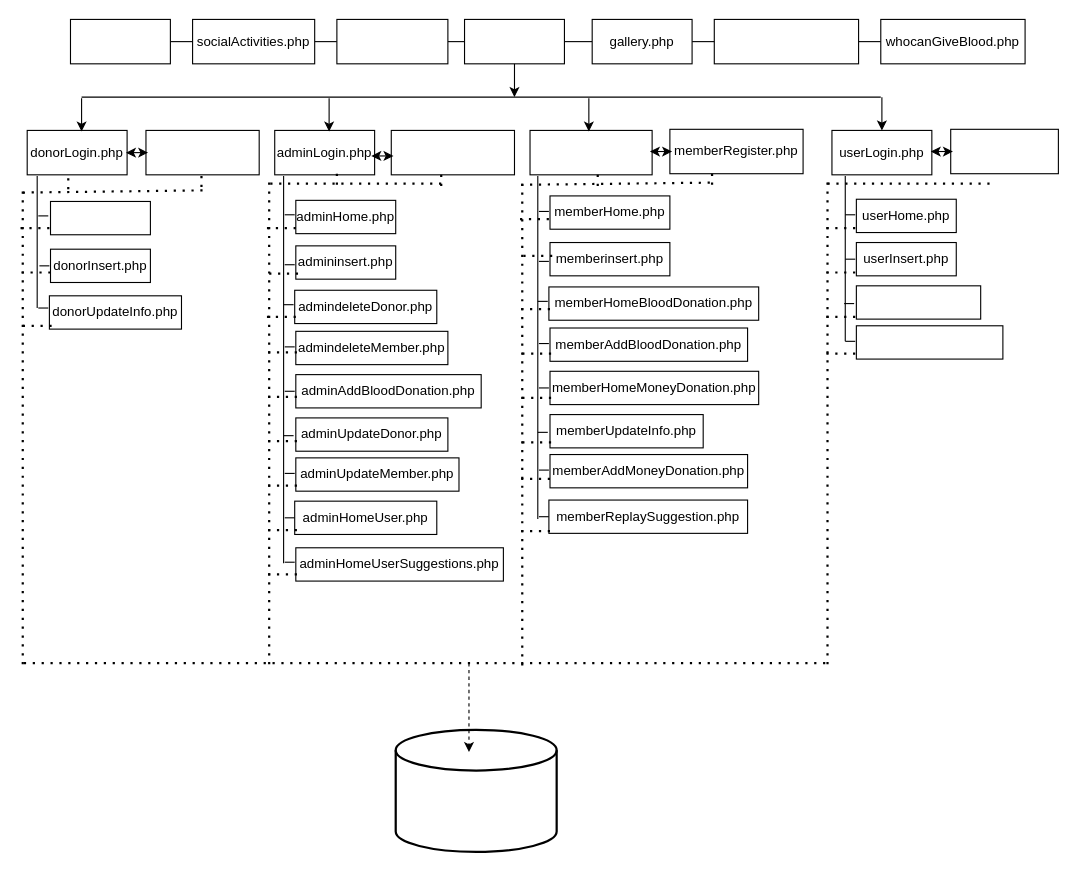
Some shapes in this 1078 by 872 pixel diagram are drawn without their labels. Here are the shapes that lost their labels. From the top down, the centre of each, then its label:
At (119,41): "news.php".
At (392,41): "aboutUs.php".
At (513,41): "index.php".
At (786,41): "howToSupportUs.php".
At (202,152): "donorRegister.php".
At (452,152): "adminRegister.php".
At (590,152): "memberLogin.php".
At (1004,151): "userRegister.php".
At (99,217): "donorHome.php".
At (918,302): "userUpdateInfo.php".
At (929,342): "userAddSuggestion.php".
At (475,790): "VitalDrops Database".
